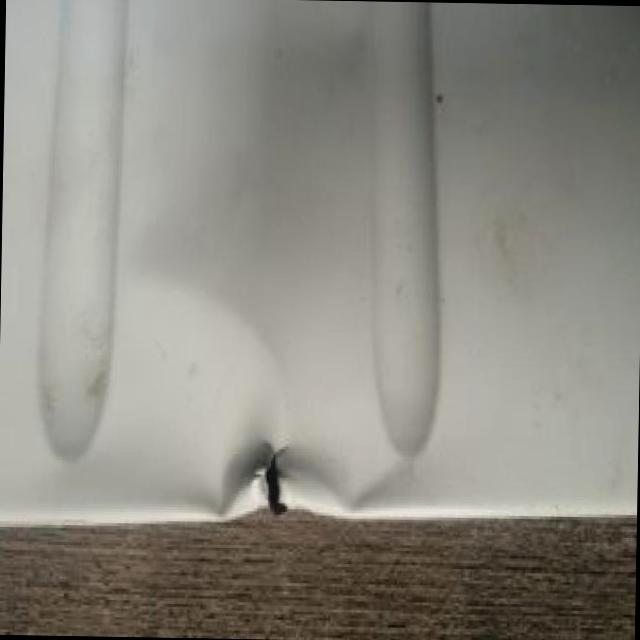crack: (235, 437, 316, 526)
